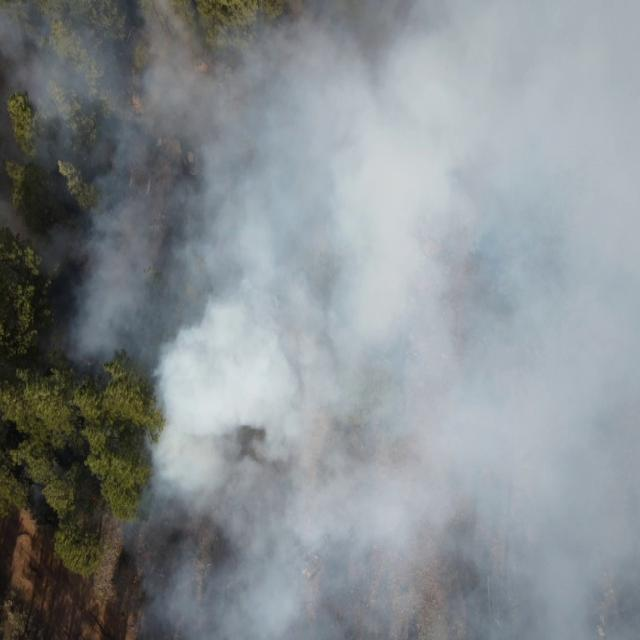smoke: (157, 0, 640, 640), (0, 0, 131, 172), (79, 178, 157, 368), (128, 439, 156, 639), (134, 2, 155, 174)
